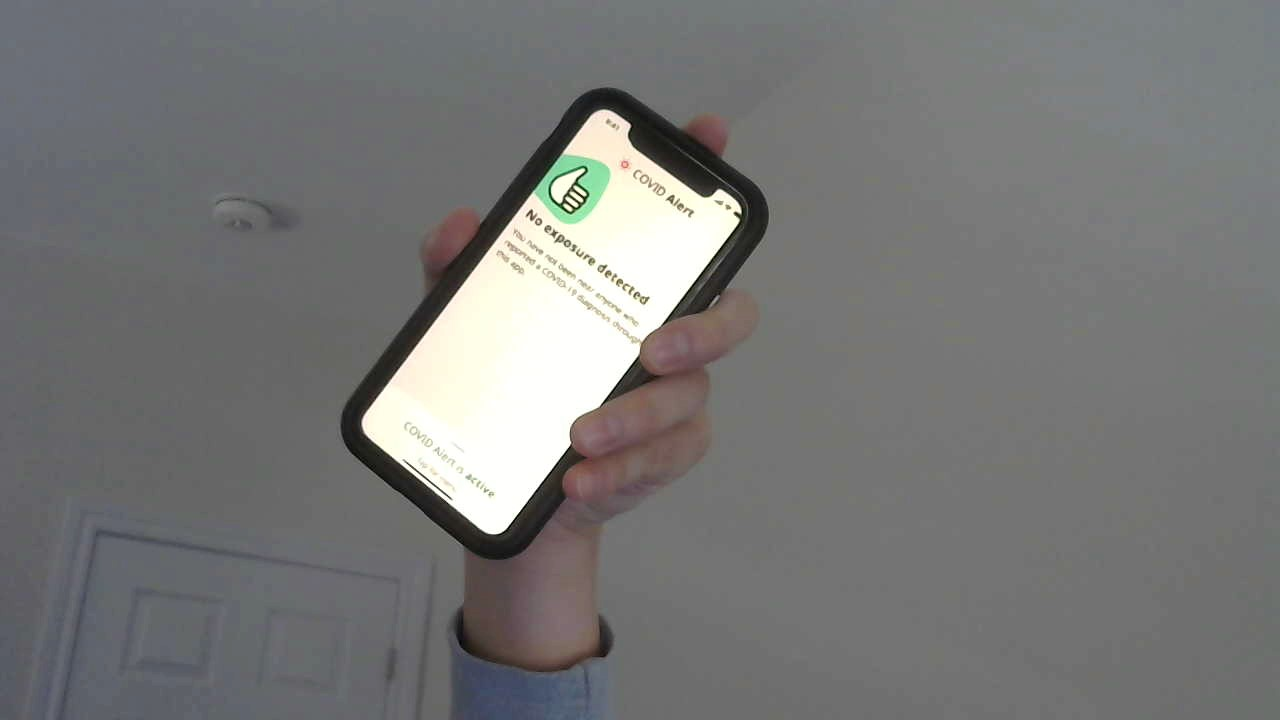Safe: (503, 139, 703, 326)
